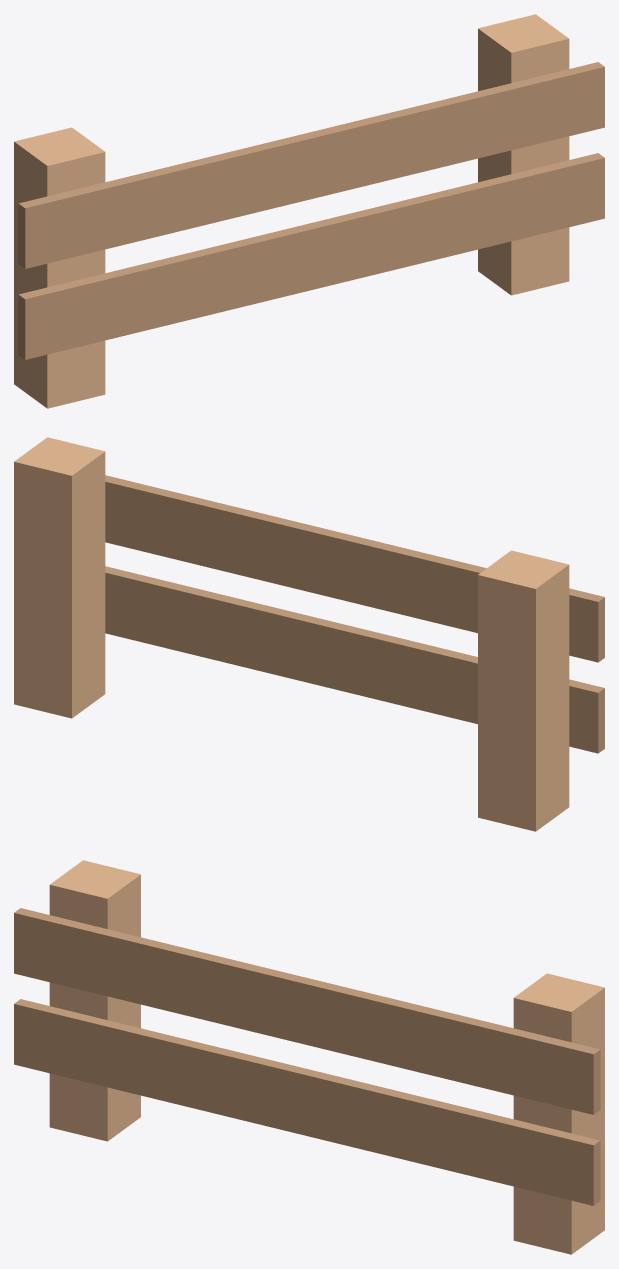
File: fence.fbx
3 views of the same model, one above another, from view 1: azimuth 30°, elevation 25°; view 2: azimuth 150°, elevation 25°; view 3: azimuth 330°, elevation 25° (orthographic).
Parts seen in each view (by area): view 1: fence; view 2: fence; view 3: fence.
Boxes of the visible parts, x1,y1,x2,y2 form: fence: (14,14,604,408); fence: (14,437,604,831); fence: (14,860,604,1254).
Size of the model in its own units: 100 by 40 by 12.
